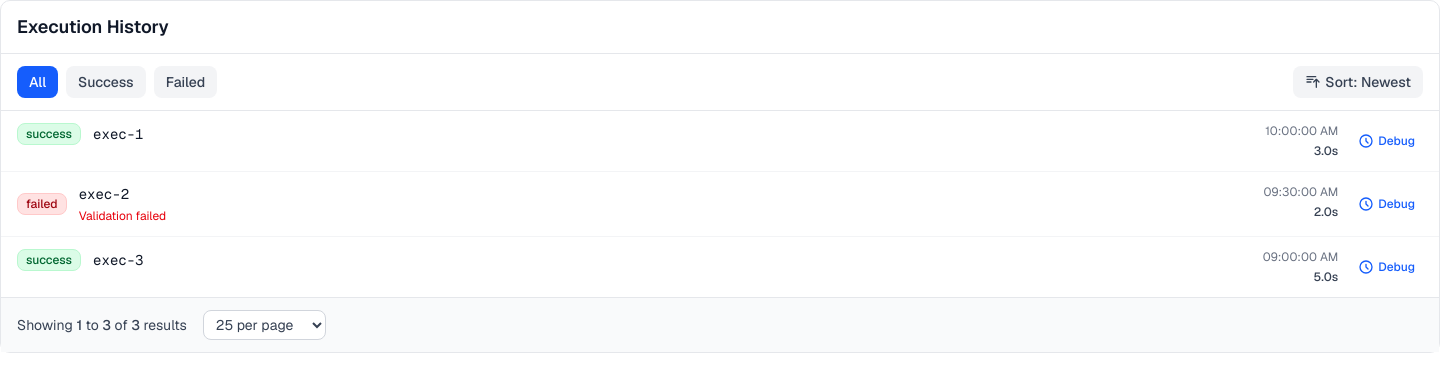
Test: ExecutionHistoryPanel › Status Filtering › filters to show only successful executions
Click the button "Success": (106, 82) [66,66,146,98]
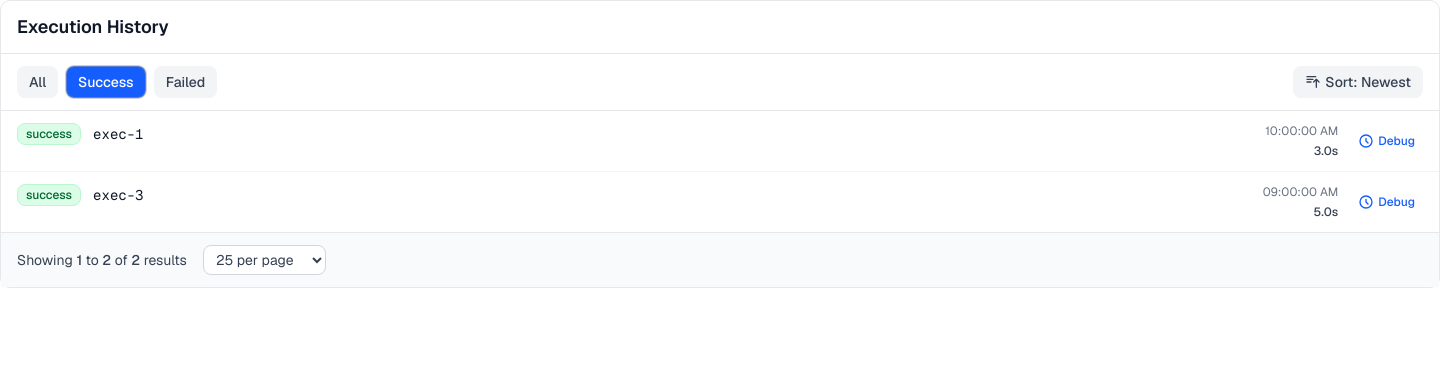
expect the text "exec-1" is shown: met, box [93,124,144,144]
expect the button "exec-2" is gone: met
